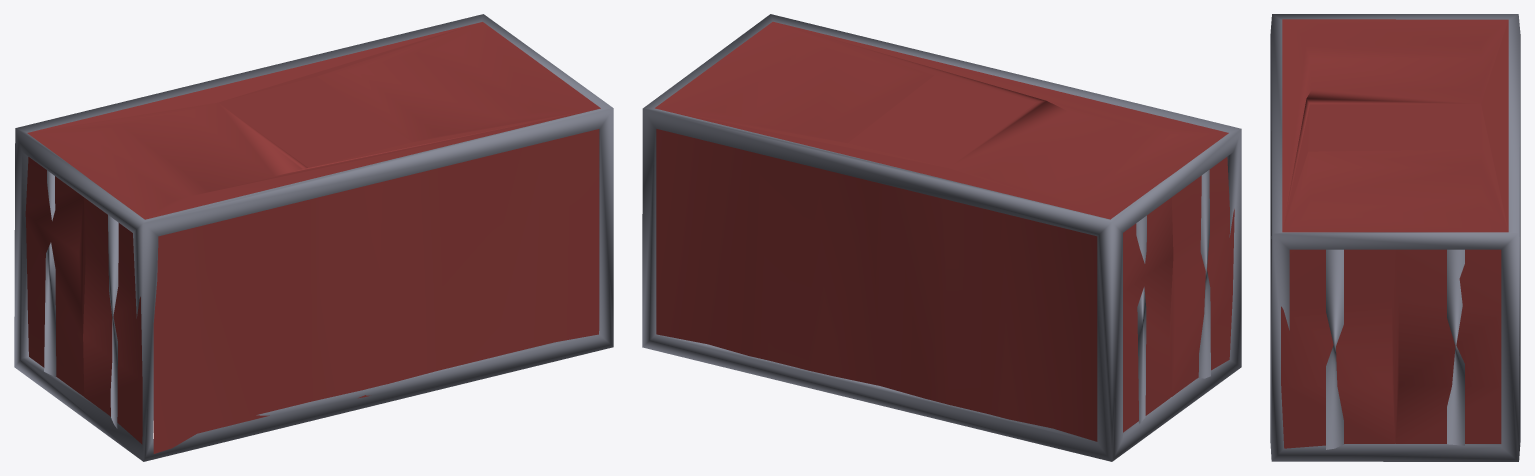
Rendered from container-low.glb.
3 renders of one model, left to right at view 1: azimuth 30°, elevation 25°; view 2: azimuth 150°, elevation 25°; view 3: azimuth 270°, elevation 25°, orthographic. The views are drawn at different scales.
Visible parts, largest first — view 1: Container_Long baked; view 2: Container_Long baked; view 3: Container_Long baked.
Boxes of the visible parts, x1=… form: Container_Long baked: x1=14, y1=14, x2=613, y2=461; Container_Long baked: x1=642, y1=14, x2=1241, y2=461; Container_Long baked: x1=1270, y1=14, x2=1520, y2=461.
Size of the model in its own units: 5.38 by 2.6 by 2.58.
